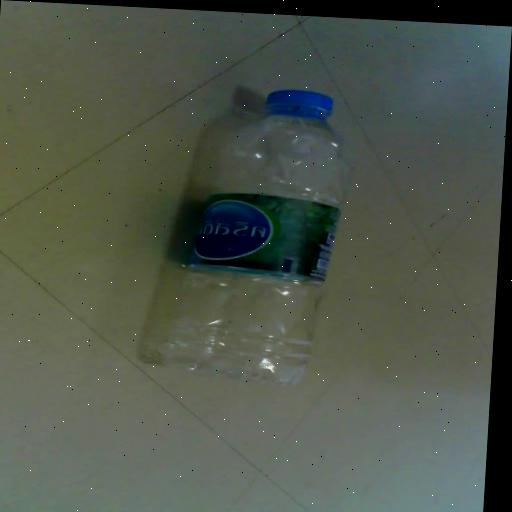bottle: (115, 75, 395, 406)
